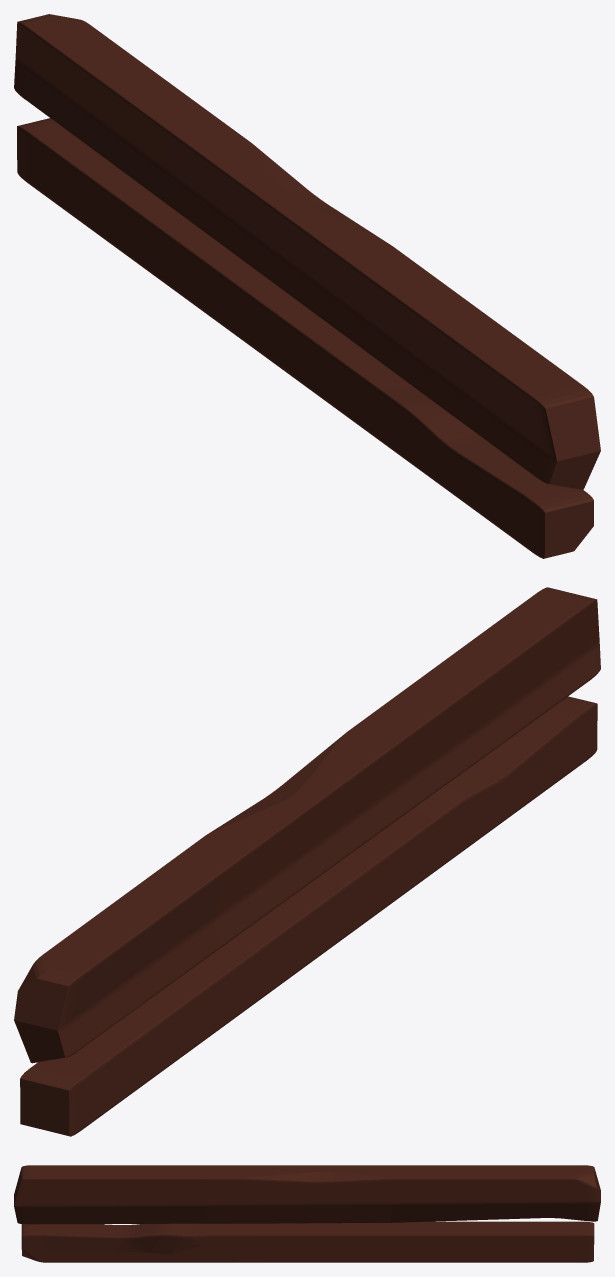
Rendered from Plank4.fbx.
3 renders of one model, top to bottom at view 1: azimuth 30°, elevation 25°; view 2: azimuth 150°, elevation 25°; view 3: azimuth 270°, elevation 25°, orthographic. The views are drawn at different scales.
Visible parts, largest first — view 1: PlankSplit.001; view 2: PlankSplit.001; view 3: PlankSplit.001.
Part boxes in pixels (<box>): PlankSplit.001: <box>14,14,600,558</box>; PlankSplit.001: <box>14,587,600,1136</box>; PlankSplit.001: <box>14,1165,600,1262</box>.
Bounding box in the file's own units: 0.061 × 0.00378 × 0.0097.
